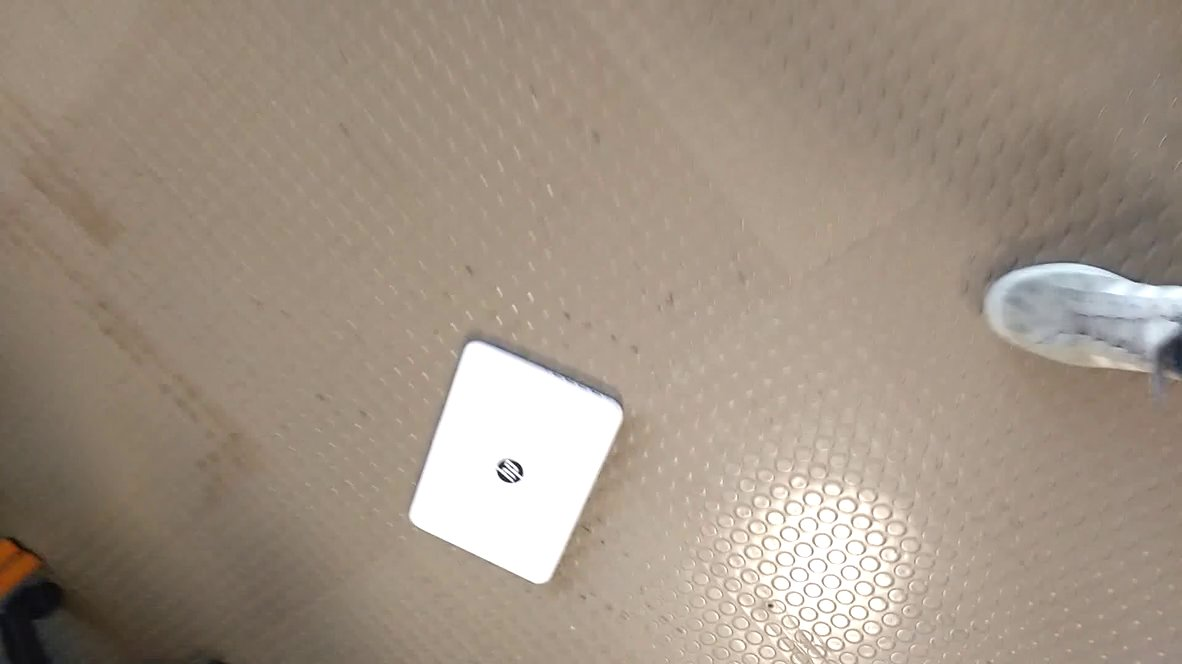laptop: (395, 327, 628, 591)
